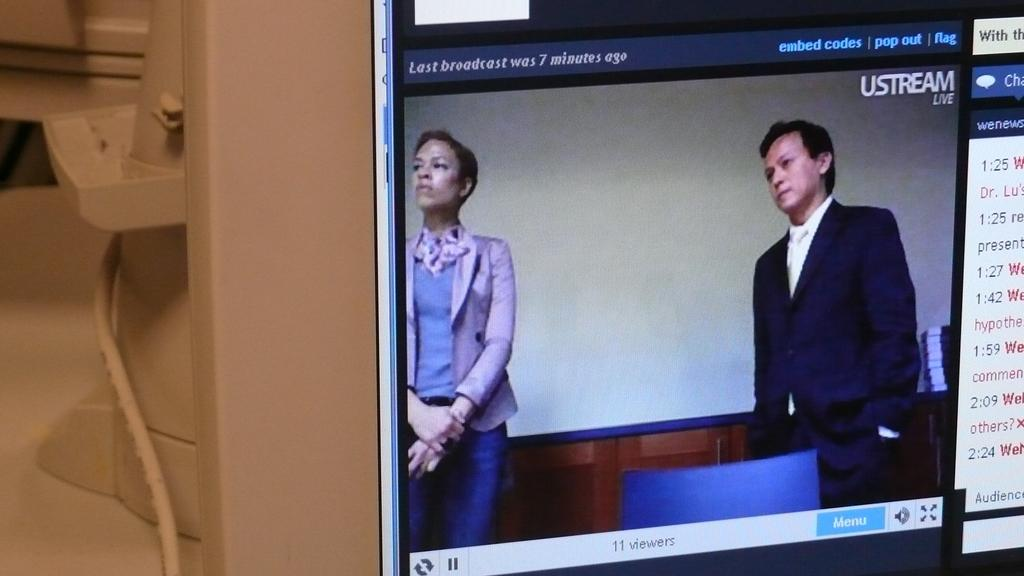Computer-monitor: (366, 2, 1020, 572)
